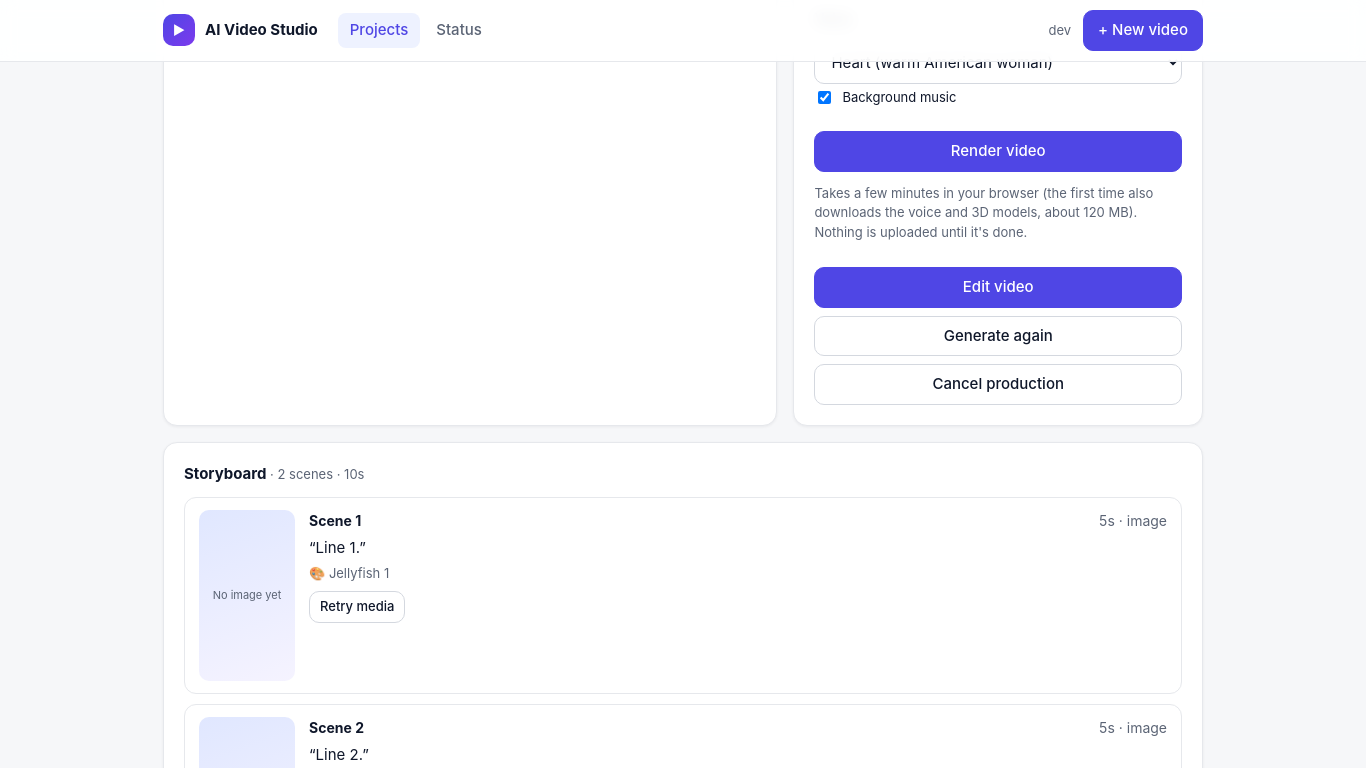
production controls › shows the storyboard, fallback notes and a cancel button while waiting to render
(page scrolled)
Check: the text "“Line 2.”" is shown, box [309,745,369,764]
Check: the text "· 2 scenes · 10s" is shown, box [270,466,364,482]
Click the button "Cancel production" at (998, 384), box [814,364,1182,404]
(page scrolled)
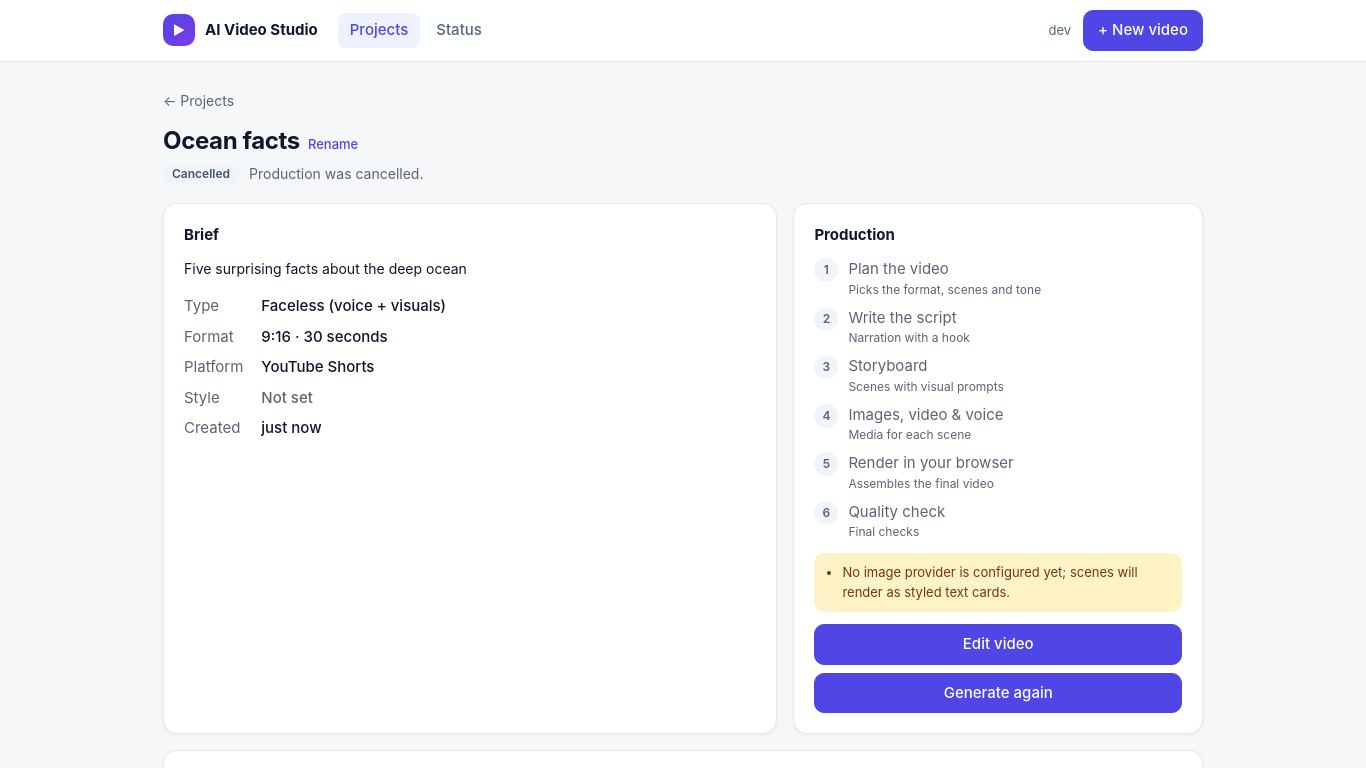
Check: the text "Cancelled" is shown, box [163,162,239,184]
